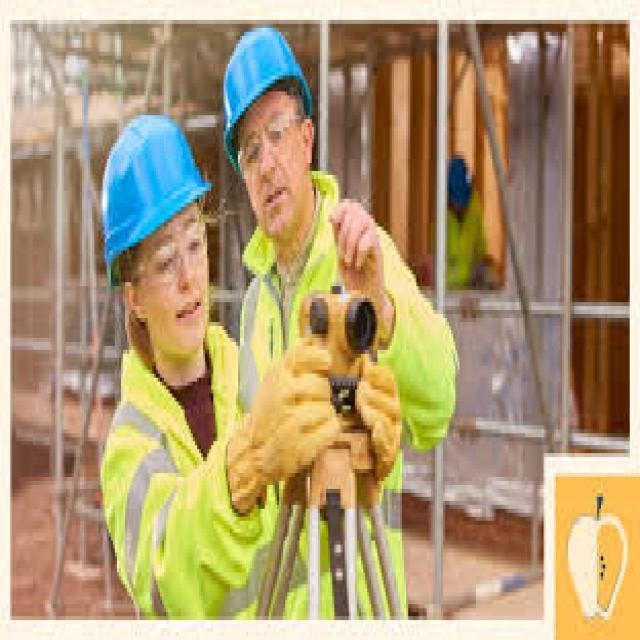Reflective-Jacket: (242, 195, 423, 624), (105, 334, 256, 616), (444, 189, 494, 290)
Safety-Helmet: (92, 104, 212, 270), (217, 16, 314, 135), (448, 157, 478, 206)
